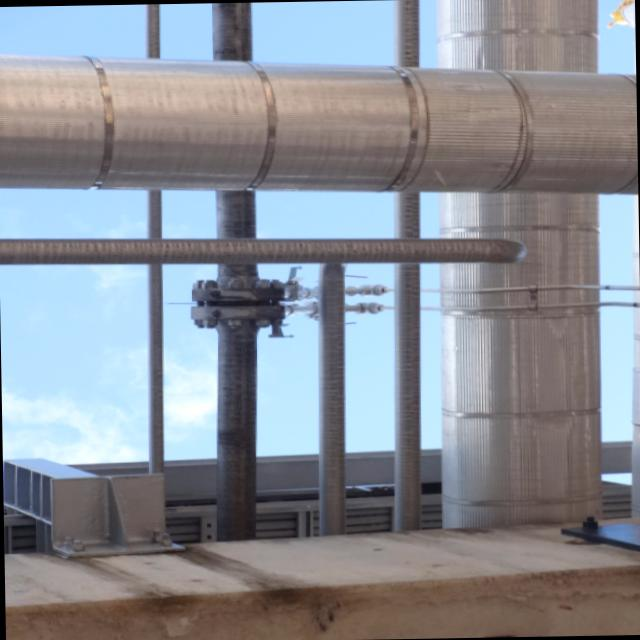gas: (0, 41, 638, 207), (0, 223, 519, 273), (204, 187, 268, 535), (144, 3, 164, 476), (319, 259, 347, 533), (394, 270, 420, 530), (210, 1, 250, 55), (395, 0, 418, 64), (394, 191, 418, 238)
